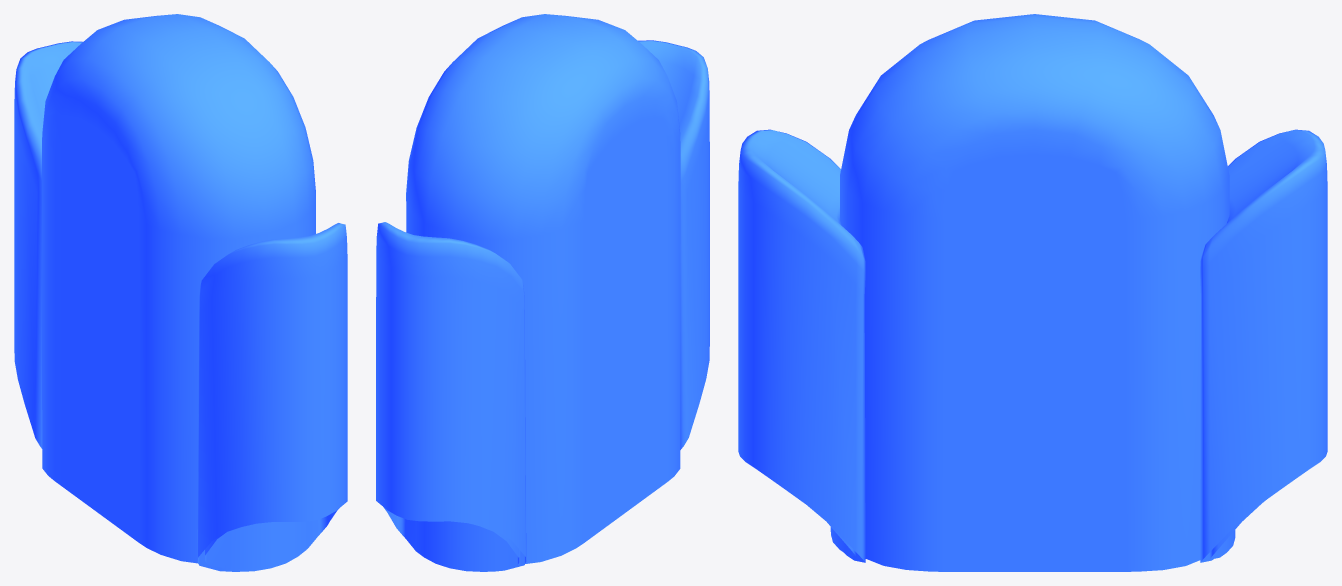
File: cupula.glb
The picture shows the model from 3 angles, left to right: view 1: azimuth 30°, elevation 25°; view 2: azimuth 150°, elevation 25°; view 3: azimuth 270°, elevation 25°; orthographic projection. The views are drawn at different scales.
Visible parts, largest first — view 1: cupula_up, cupula_down; view 2: cupula_up, cupula_down; view 3: cupula_up, cupula_down.
Boxes of the visible parts, x1,y1,x2,y2 form: cupula_up: (14,14,347,571); cupula_down: (205,511,335,569); cupula_up: (376,14,709,570); cupula_down: (383,507,519,571); cupula_up: (738,14,1327,571); cupula_down: (827,502,1263,559).
Bounding box in the file's own units: 0.6823 × 1.86 × 1.96.
